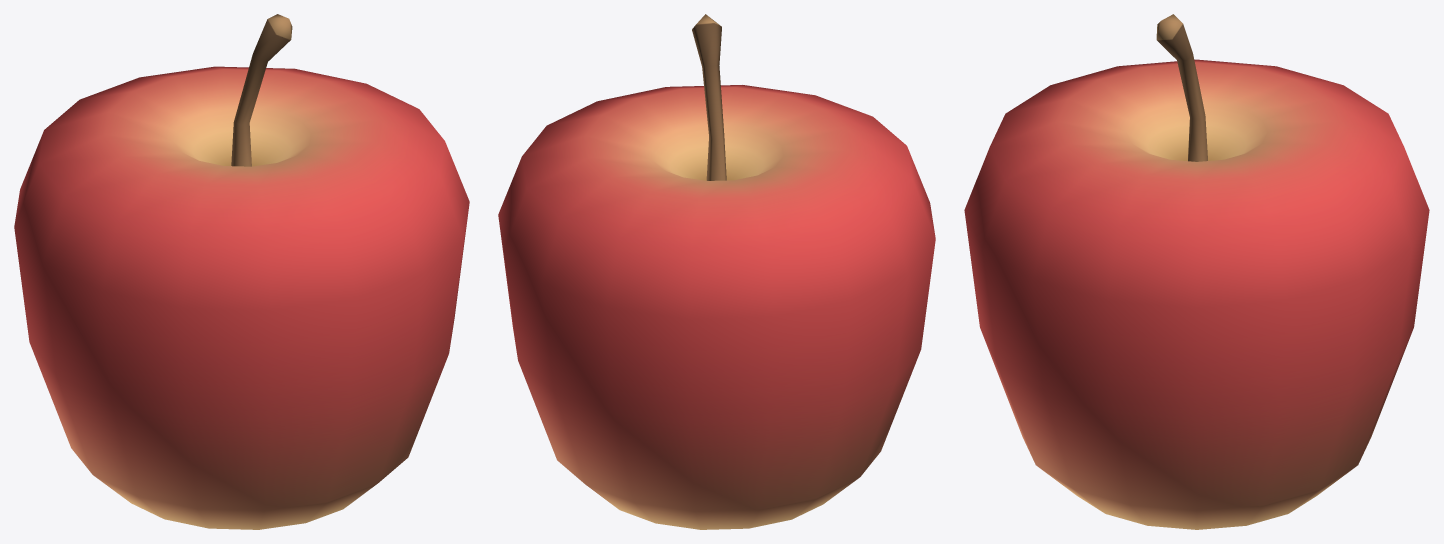
Rendered from Apple.fbx.
The picture shows the model from 3 angles, left to right: view 1: azimuth 30°, elevation 25°; view 2: azimuth 150°, elevation 25°; view 3: azimuth 270°, elevation 25°; orthographic projection. The views are drawn at different scales.
Visible parts, largest first — view 1: Apple; view 2: Apple; view 3: Apple.
Boxes of the visible parts, left/top/right/bottom form: Apple: left=14, top=14, right=469, bottom=529; Apple: left=498, top=14, right=935, bottom=529; Apple: left=964, top=14, right=1429, bottom=529.
Size of the model in its own units: 44.27 by 50.05 by 44.27.
